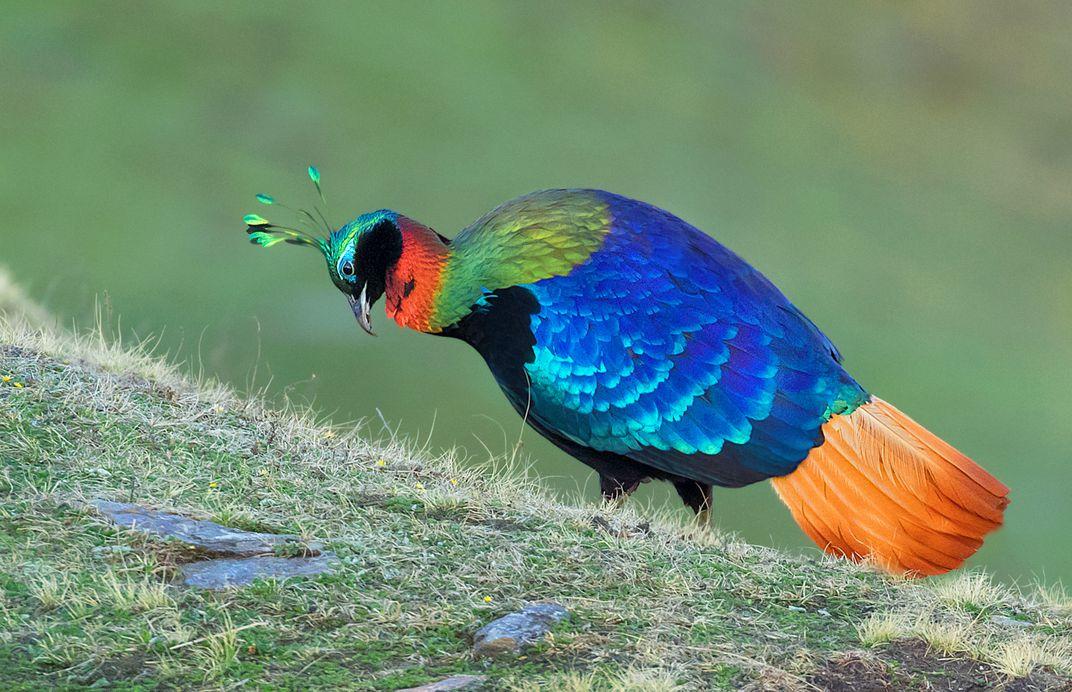bird: (234, 133, 1016, 615)
